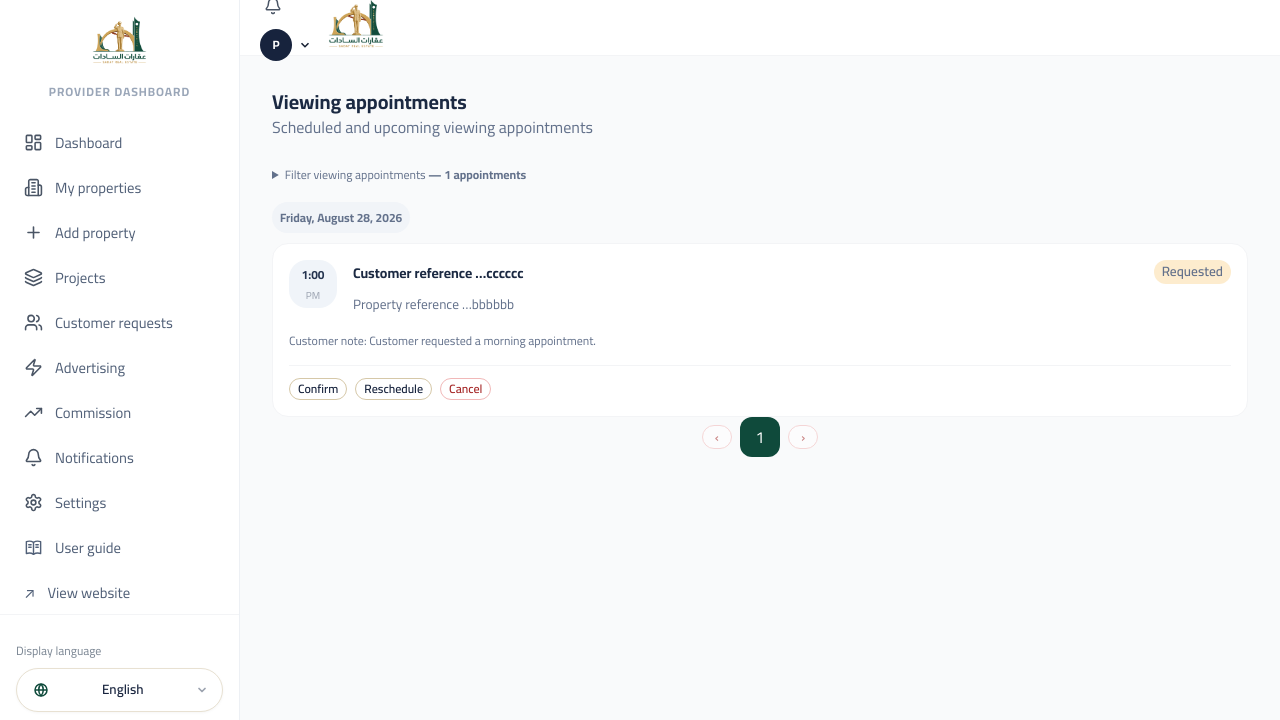
Provider viewing appointments › validates reschedule and cancellation inputs before mutation
This screenshot has width=1280, height=720.
Expected: the element with test id "provider-viewing-row" is shown, [272,243,1248,417]
Click the button "Reschedule". click: x=394, y=389
box: [355,378,432,400]
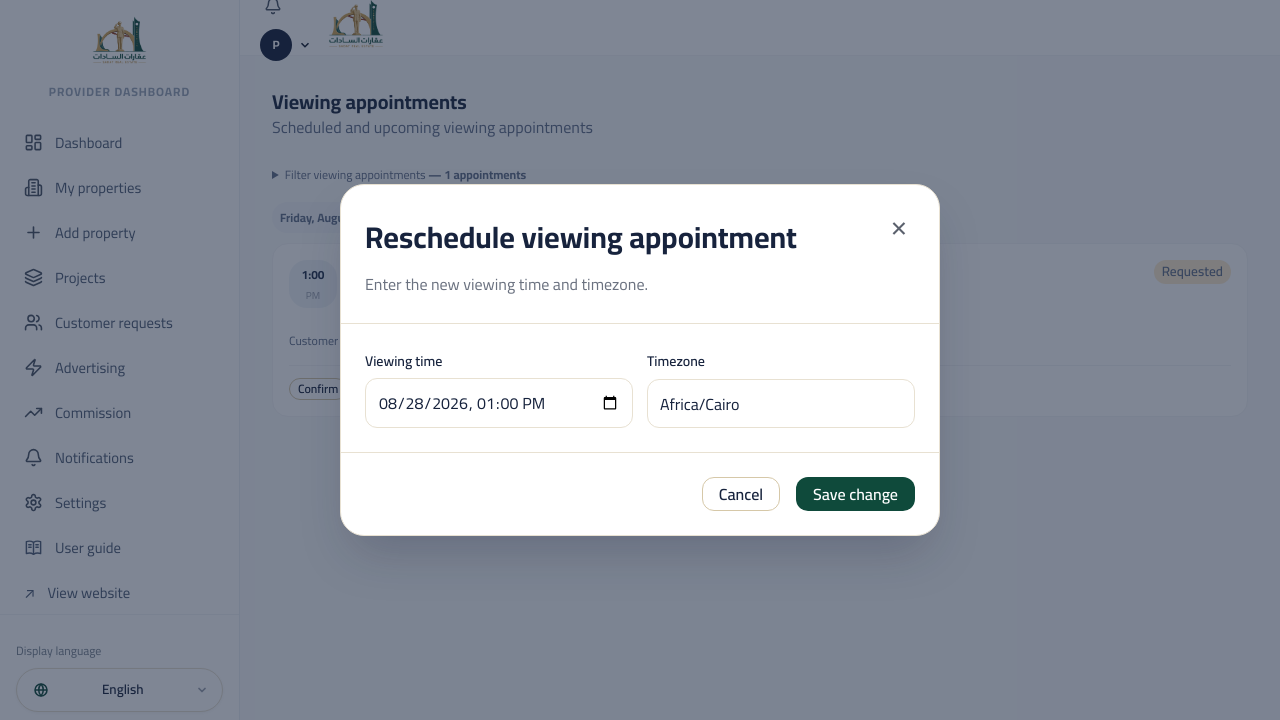
Clear the field labelled "Viewing time". click: x=499, y=403
box: [365,378,633,428]
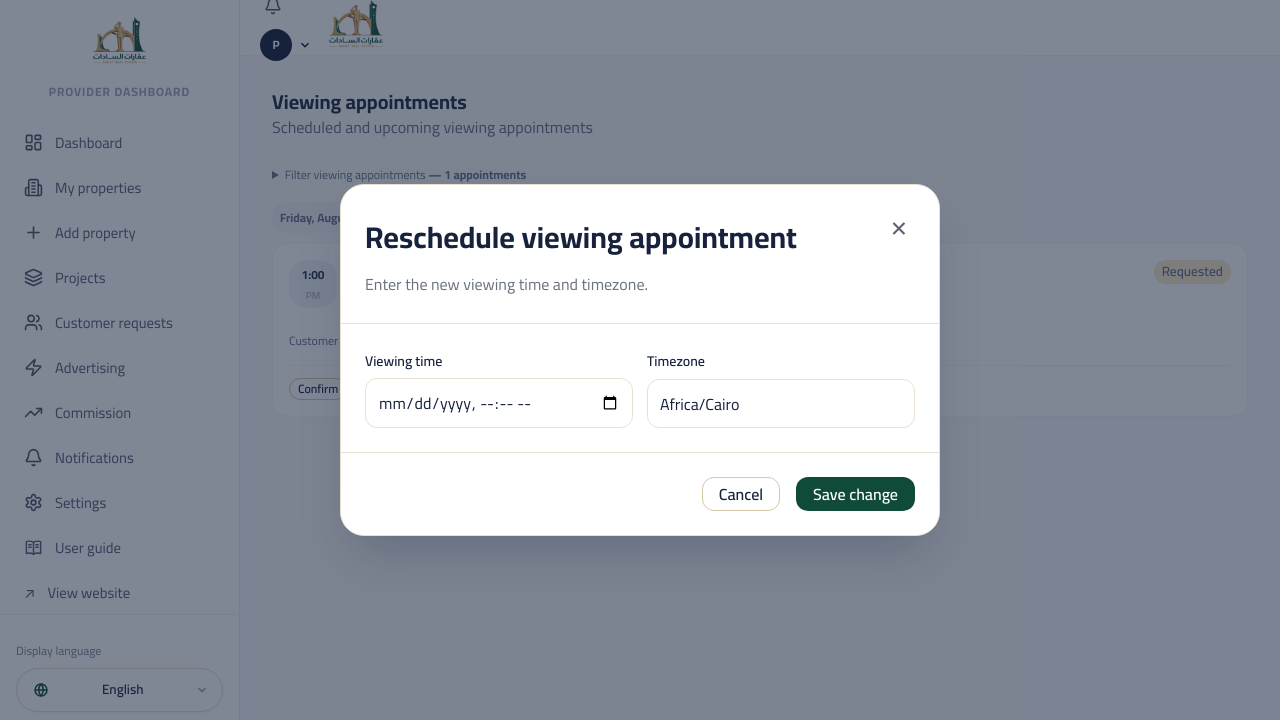
Click the button "Save change". click: x=856, y=494
box: [796,477,915,511]
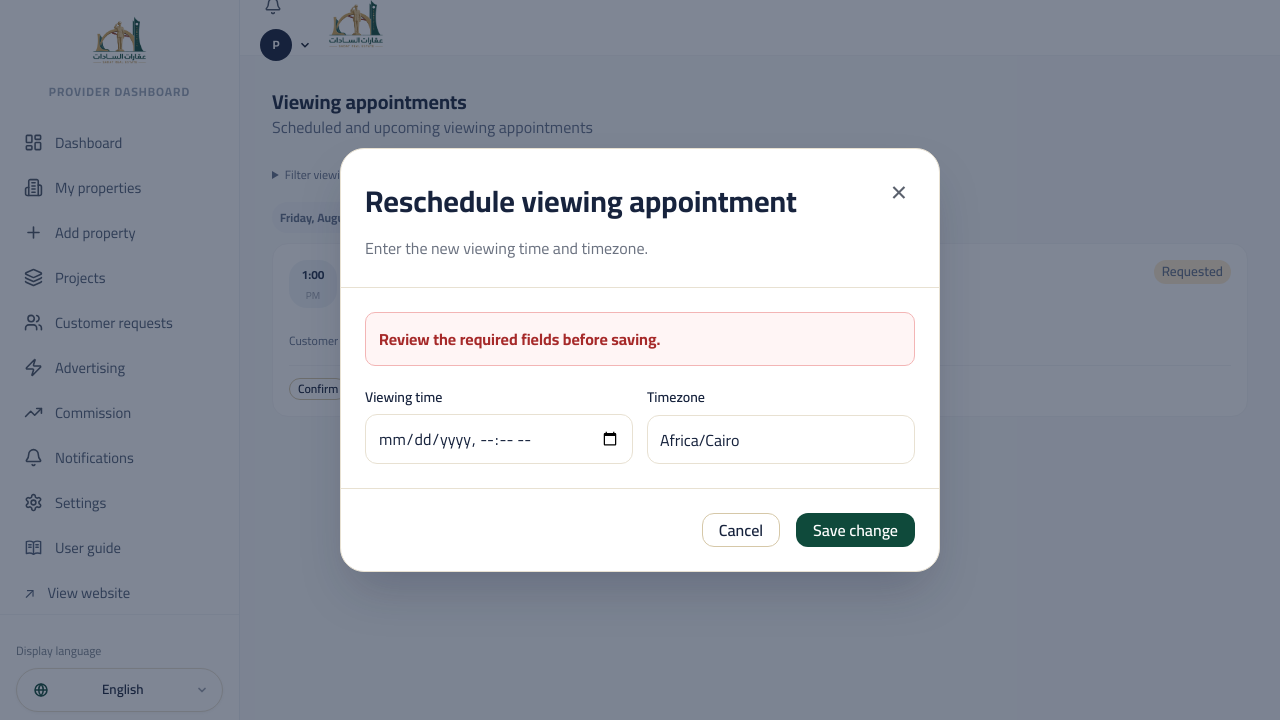
Result: the message reads "Review the required fields before saving." at [379,324,660,354]
Click the button "Cancel". click: x=741, y=530
box: [702,513,780,547]
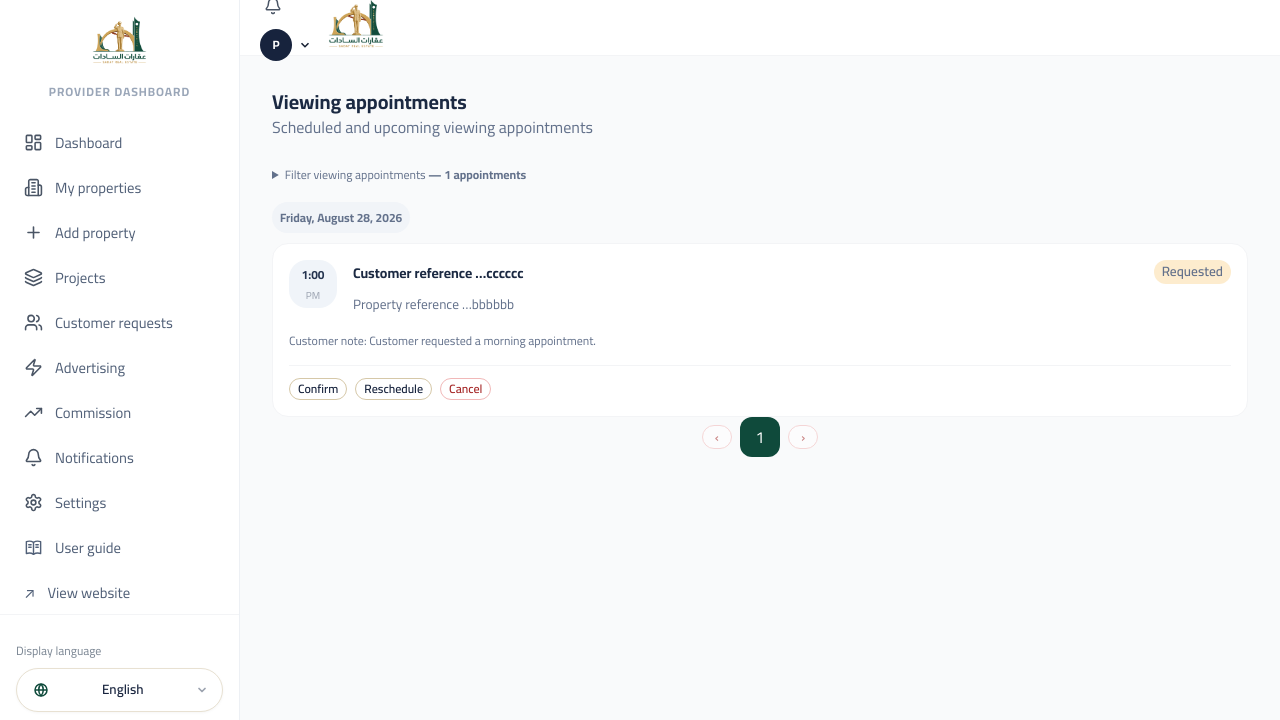
Click the button "Cancel". click: x=466, y=389
box: [440,378,491,400]
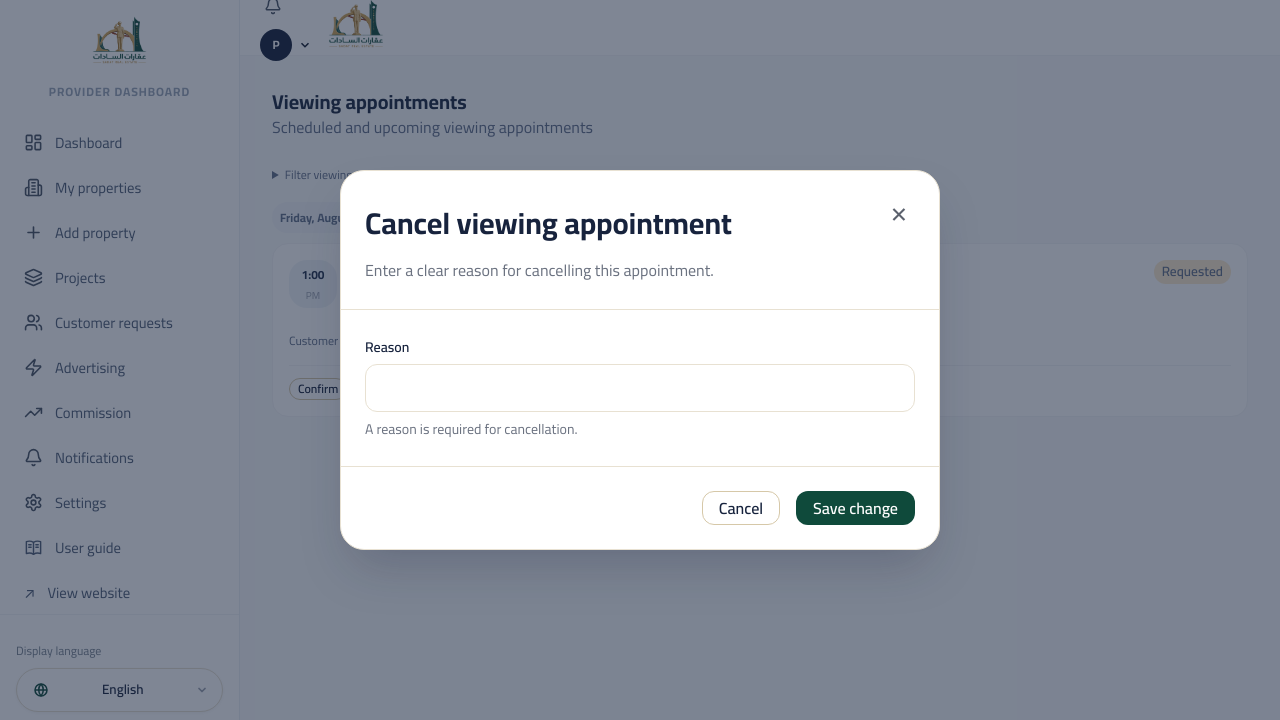
Click the button "Save change". click: x=856, y=508
box: [796,491,915,525]
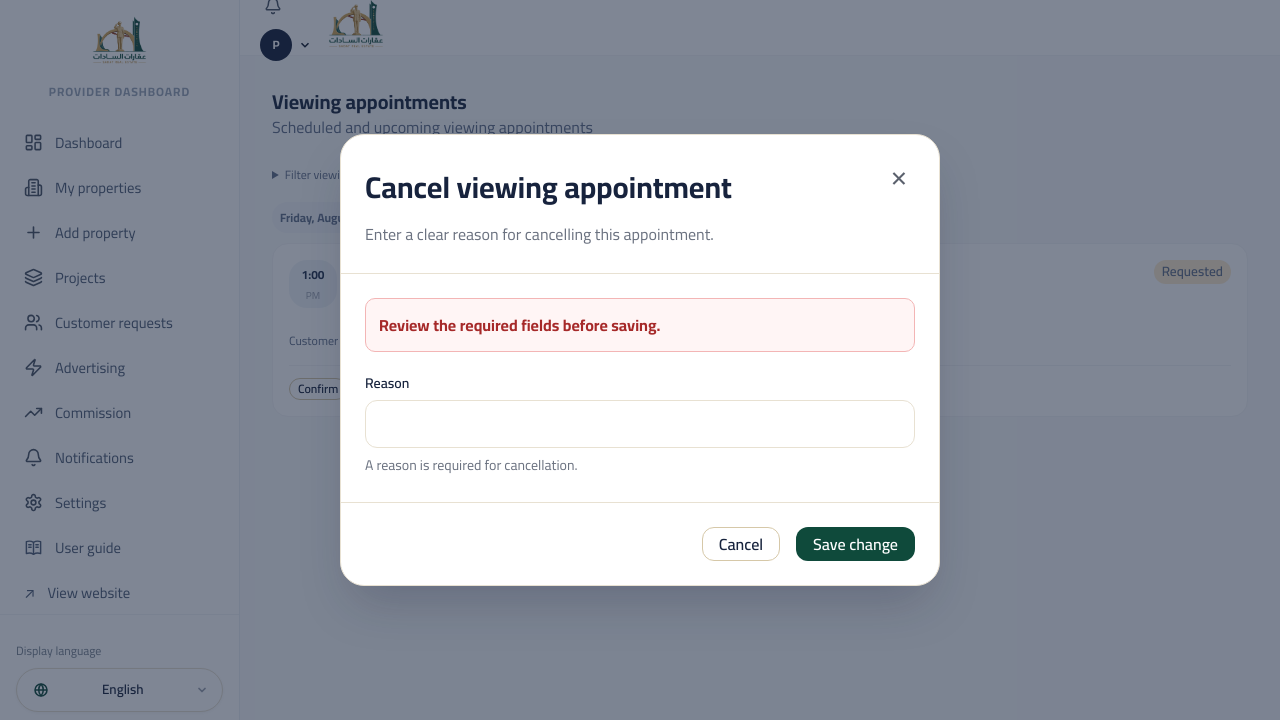
Result: the message "Review the required fields before saving." is shown at [365,298,915,352]
